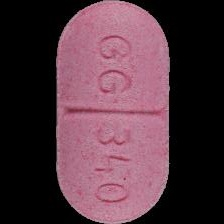55700-010: (0, 0, 224, 224)
